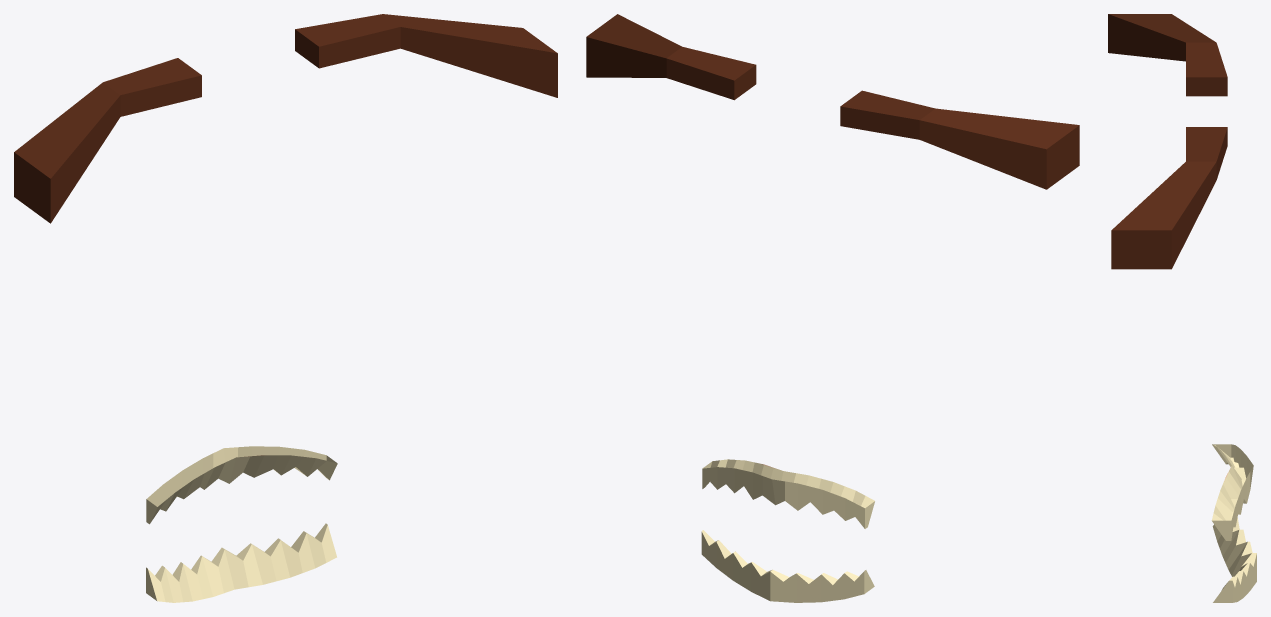
The model's file is EyebrowRight.fbx.
3 renders of one model, left to right at view 1: azimuth 30°, elevation 25°; view 2: azimuth 150°, elevation 25°; view 3: azimuth 270°, elevation 25°, orthographic. The views are drawn at different scales.
Parts seen in each view (by area): view 1: EyeBrowsLeft, EyeBrowsRight, BottomTeeth, UpperTeeth; view 2: EyeBrowsRight, EyeBrowsLeft, UpperTeeth, BottomTeeth; view 3: EyeBrowsLeft, EyeBrowsRight, UpperTeeth, BottomTeeth.
Boxes of the visible parts, left/top/right/bottom form: EyeBrowsLeft: left=295, top=14, right=557, bottom=97; EyeBrowsRight: left=14, top=58, right=201, bottom=223; BottomTeeth: left=146, top=523, right=336, bottom=602; UpperTeeth: left=146, top=446, right=337, bottom=524; EyeBrowsRight: left=840, top=90, right=1079, bottom=189; EyeBrowsLeft: left=586, top=14, right=756, bottom=100; UpperTeeth: left=702, top=459, right=874, bottom=528; BottomTeeth: left=701, top=530, right=874, bottom=602; EyeBrowsLeft: left=1111, top=127, right=1227, bottom=269; EyeBrowsRight: left=1108, top=14, right=1227, bottom=96; UpperTeeth: left=1211, top=444, right=1253, bottom=540; BottomTeeth: left=1212, top=518, right=1256, bottom=602.
Size of the model in its own units: 46.18 by 47.64 by 13.43.
